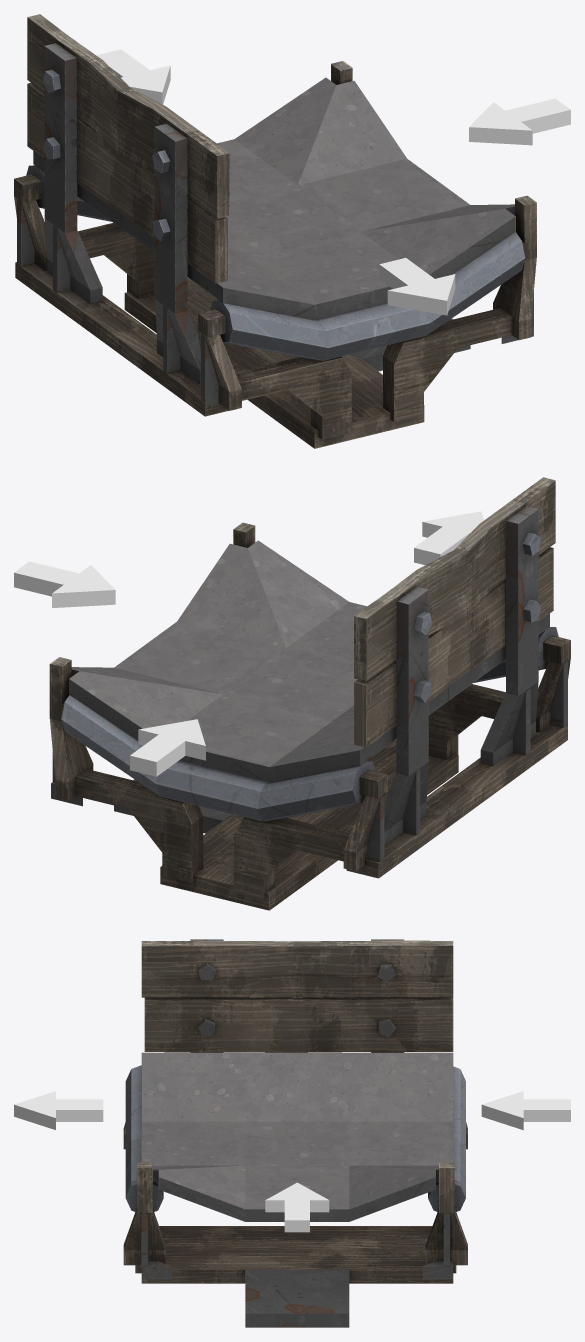
File: Wall_LCombiner_Mirror.glb
3 views of the same model, one above another, from view 1: azimuth 30°, elevation 25°; view 2: azimuth 150°, elevation 25°; view 3: azimuth 270°, elevation 25° (orthographic). The views are drawn at different scales.
Visible parts, largest first — view 1: Renderer, ghostarrow (2), ghostarrow, ghostarrow (1); view 2: Renderer, ghostarrow (2), ghostarrow (1), ghostarrow; view 3: Renderer, ghostarrow (1), ghostarrow, ghostarrow (2).
Part boxes in pixels (<box>): Renderer: <box>14,14,536,448</box>; ghostarrow (2): <box>469,98,570,145</box>; ghostarrow: <box>379,258,455,315</box>; ghostarrow (1): <box>96,49,170,104</box>; Renderer: <box>49,477,570,910</box>; ghostarrow (2): <box>14,561,115,607</box>; ghostarrow (1): <box>130,719,205,776</box>; ghostarrow: <box>414,511,484,565</box>; Renderer: <box>123,939,467,1327</box>; ghostarrow (1): <box>481,1091,570,1130</box>; ghostarrow: <box>14,1091,103,1129</box>; ghostarrow (2): <box>265,1182,329,1232</box>.
Bounding box in the file's own units: 1.4 × 0.9199 × 1.79.
Materials: 4 (2 with a texture image).
